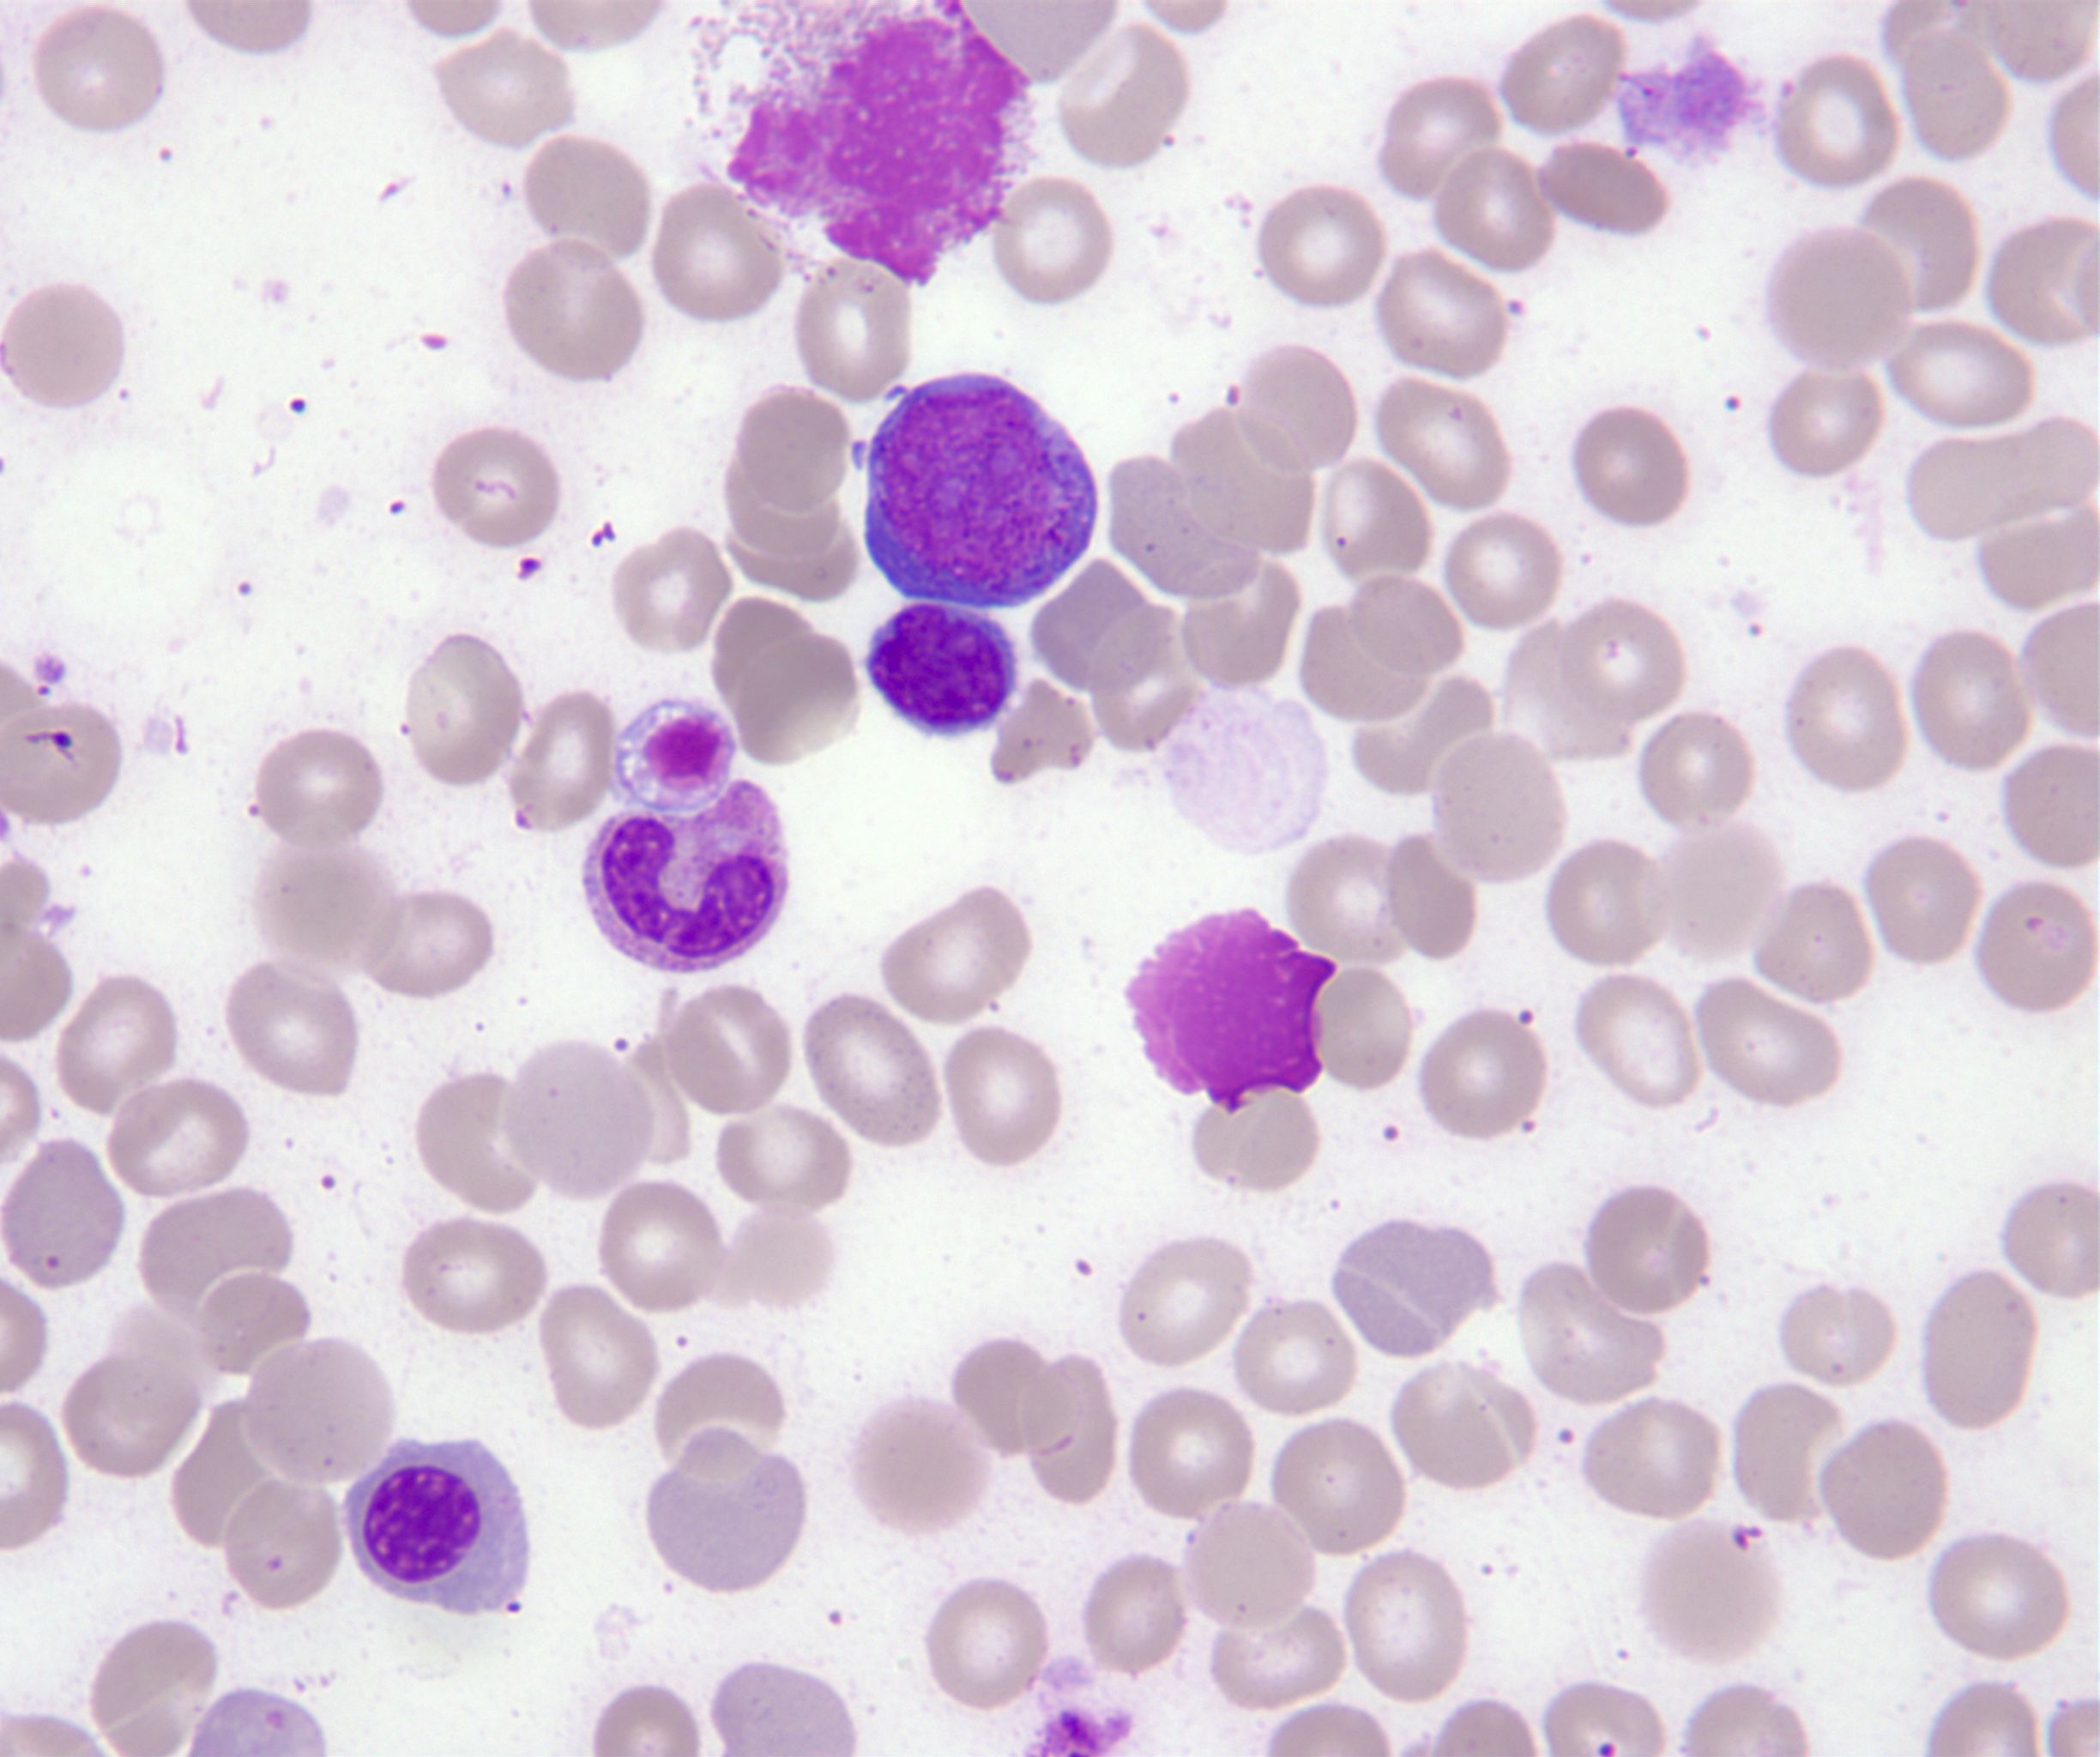2: (865, 372, 1097, 607)
23: (349, 1438, 528, 1617)
32: (867, 600, 1015, 736)
5: (586, 780, 788, 974)
x: (724, 3, 1027, 286), (1125, 911, 1336, 1115), (617, 698, 738, 808)
